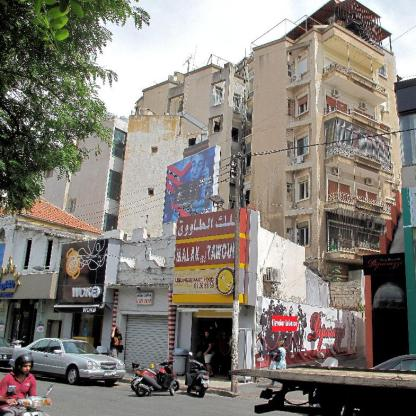Car: (17, 344, 124, 392)
